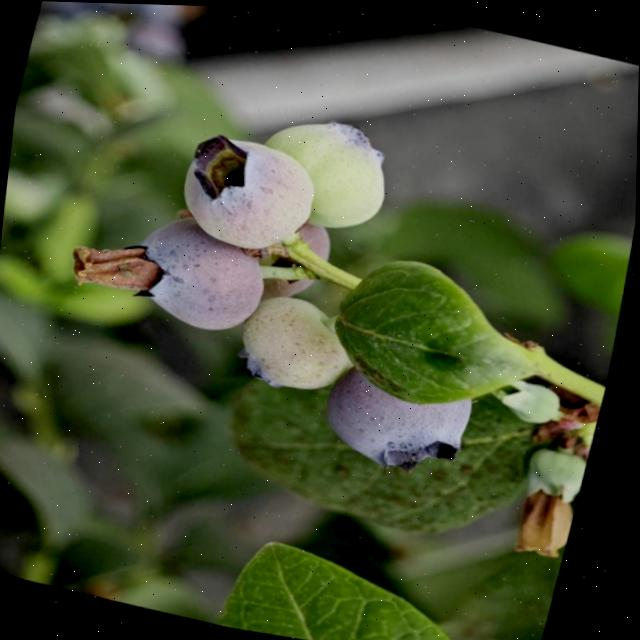Semi-RipeBlueBerry: (174, 125, 328, 260), (127, 216, 283, 342), (236, 288, 367, 401)
